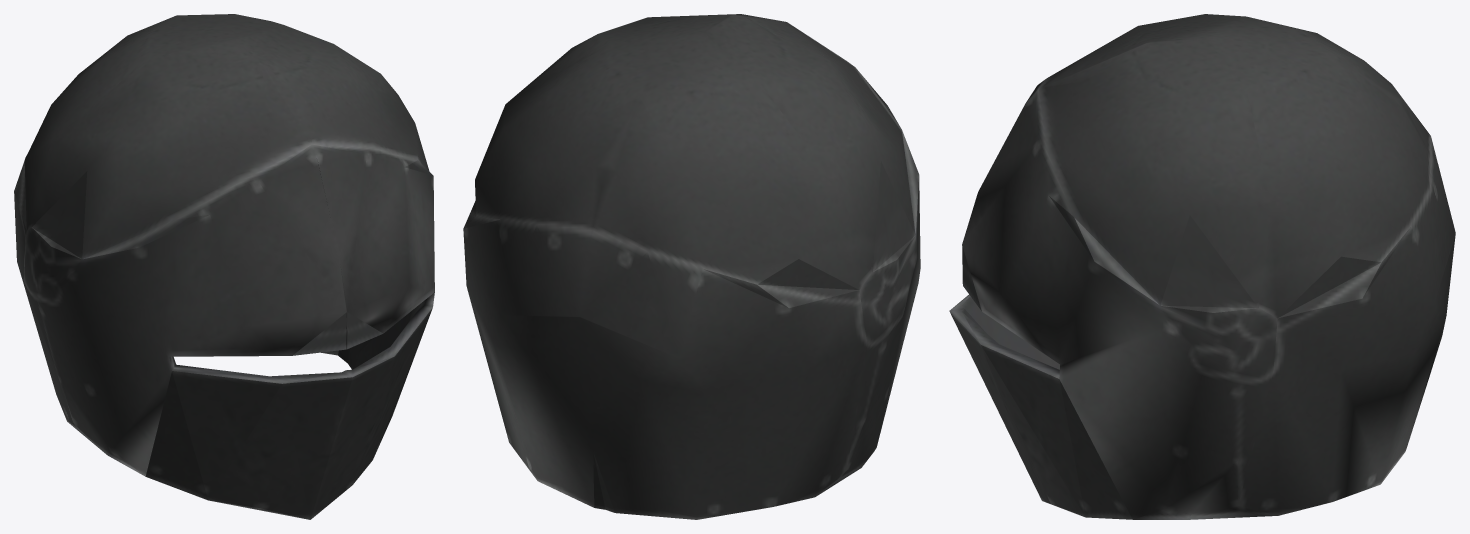
Rendered from plateArmorHelmet.glb.
3 renders of one model, left to right at view 1: azimuth 30°, elevation 25°; view 2: azimuth 150°, elevation 25°; view 3: azimuth 270°, elevation 25°, orthographic. The views are drawn at different scales.
Parts seen in each view (by area): view 1: output_unwrapped.001; view 2: output_unwrapped.001; view 3: output_unwrapped.001.
Part boxes in pixels (<box>): output_unwrapped.001: <box>14,14,434,519</box>; output_unwrapped.001: <box>463,14,920,519</box>; output_unwrapped.001: <box>949,14,1455,519</box>.
Bounding box in the file's own units: 9.59 × 10.52 × 10.45.
Materials: 1 (1 with a texture image).
